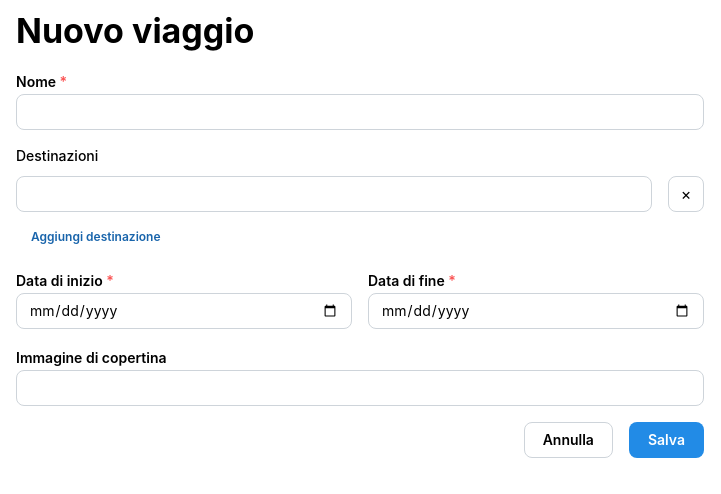
Test: a trip over 365 days shows the Italian length message
The width and height of the screenshot is (721, 494).
Type "Giro del mondo" into the field labelled "Nome *" at (360, 112), box top-left (16, 94), bottom-right (704, 130)
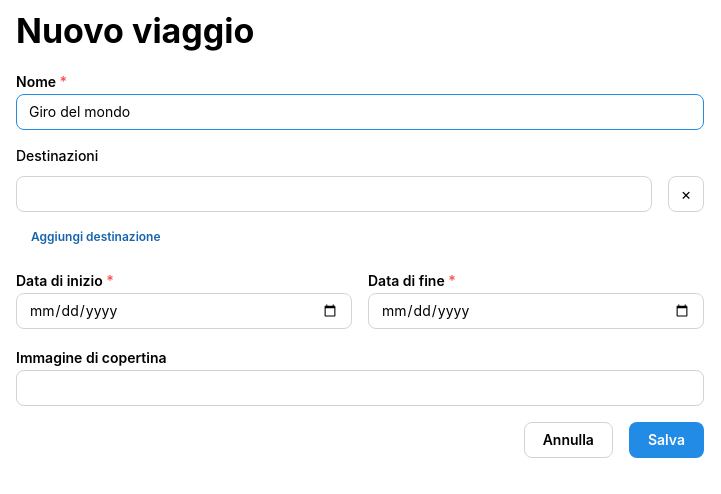
Type "2026-05-01" into the date field labelled "Data di inizio *" at (184, 311), box top-left (16, 293), bottom-right (352, 329)
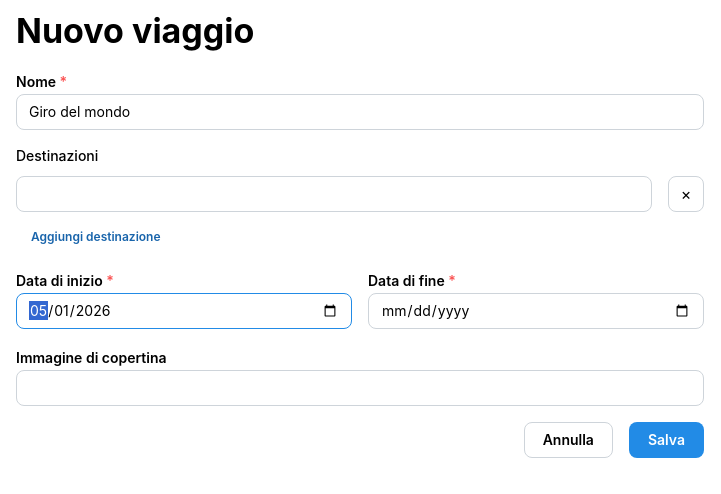
Type "2027-06-01" into the date field labelled "Data di fine *" at (536, 311), box top-left (368, 293), bottom-right (704, 329)
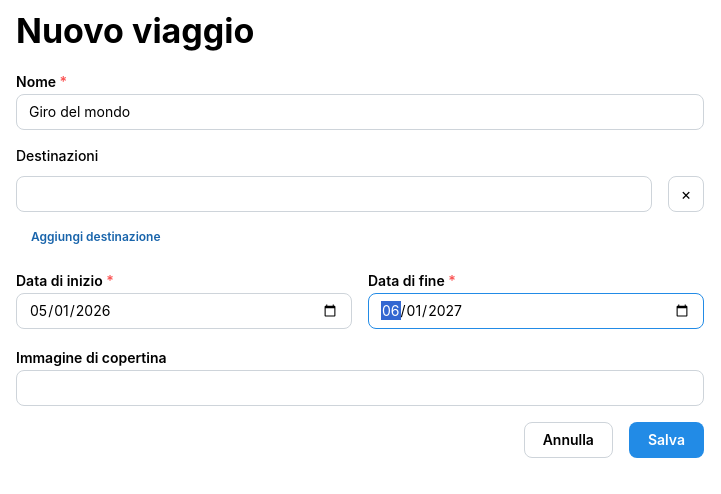
Click the button "Salva" at (666, 440), box top-left (629, 422), bottom-right (704, 458)
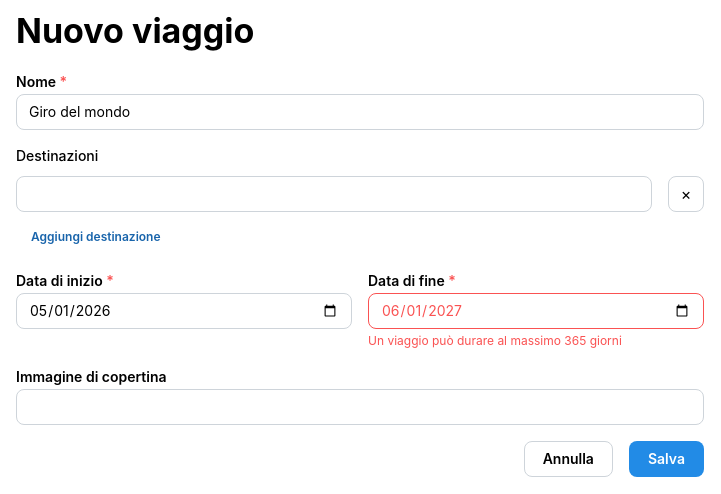
Check: the text "Un viaggio può durare al massimo 365 giorni" is shown, box top-left (368, 333), bottom-right (622, 348)
